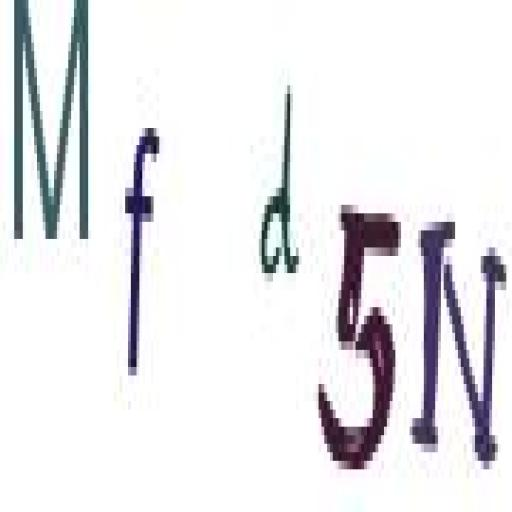5: (318, 177, 403, 488)
M: (7, 0, 93, 257)
N: (412, 204, 506, 482)
d: (256, 70, 302, 290)
f: (115, 118, 163, 388)
